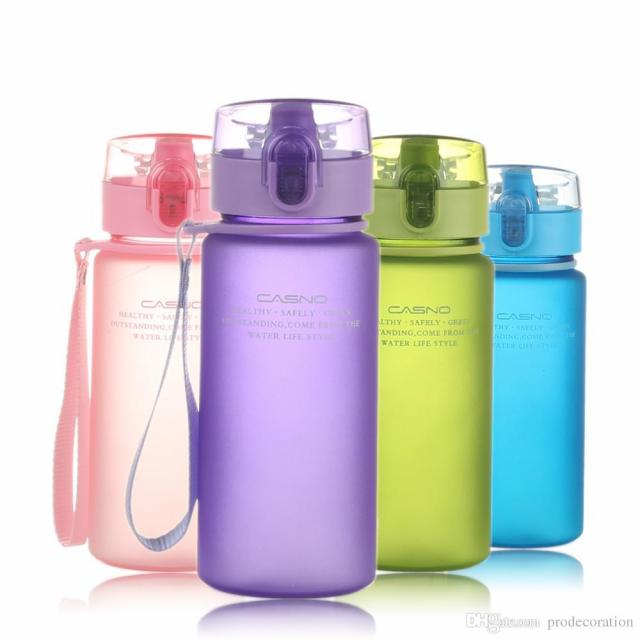plastic_bottle: (213, 109, 379, 590), (99, 138, 213, 569), (379, 140, 491, 558), (489, 166, 583, 540)
